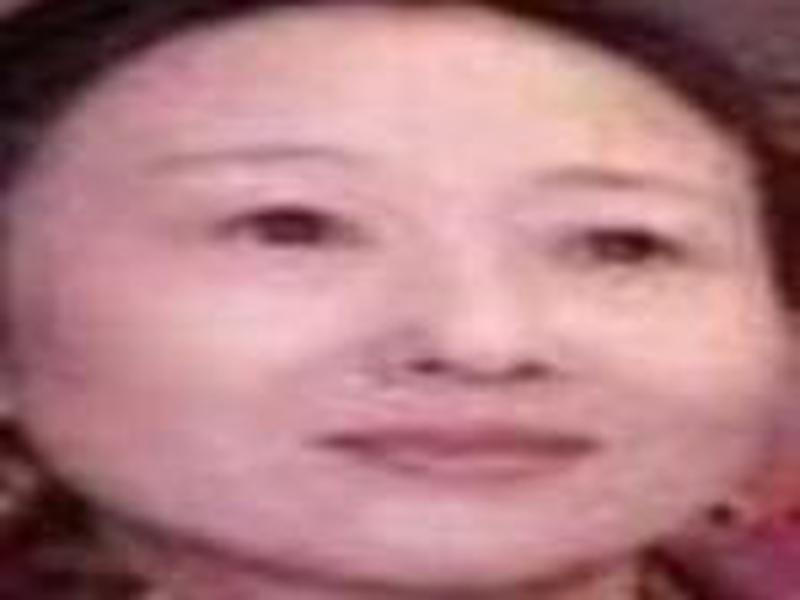without_mask: (8, 10, 783, 582)
